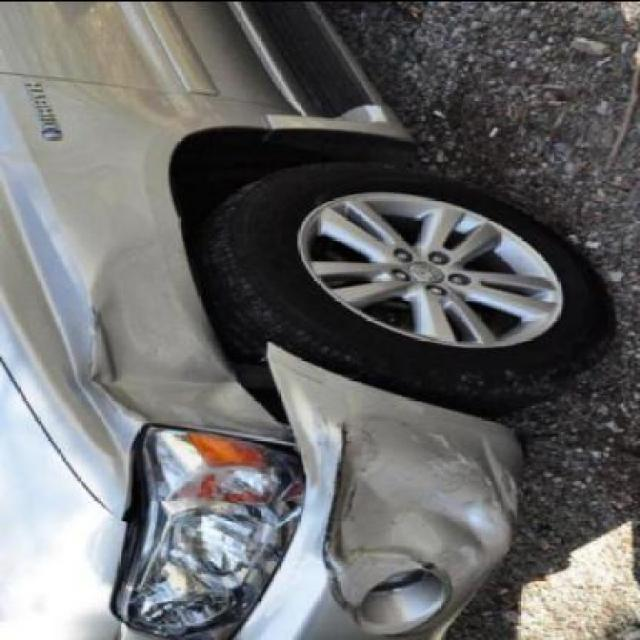damage: (105, 433, 312, 640), (89, 233, 278, 436)
